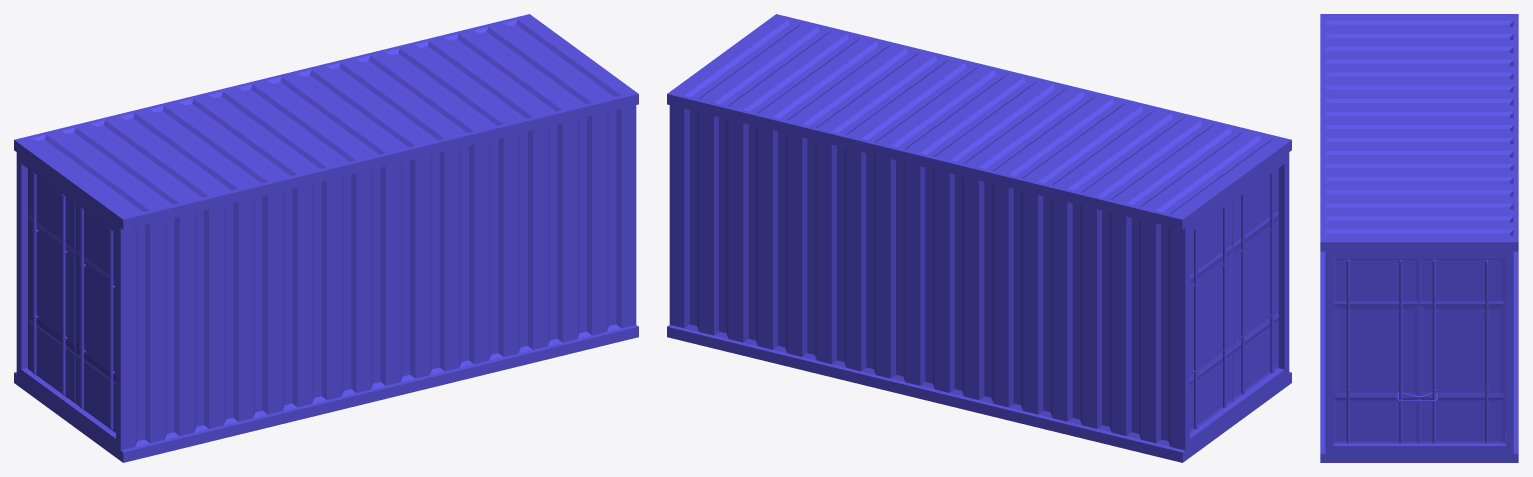
The model's file is container.FBX.
3 renders of one model, left to right at view 1: azimuth 30°, elevation 25°; view 2: azimuth 150°, elevation 25°; view 3: azimuth 270°, elevation 25°, orthographic. The views are drawn at different scales.
Parts seen in each view (by area): view 1: Box01, Box05, Box04, pole05, pole06, pole07, pole08; view 2: Box01, Box04, Box05, pole07, pole08, pole05, pole06; view 3: Box01, Box02, Box03, pole, pole04, pole03, pole2.
Boxes of the visible parts, x1=… form: Box01: x1=14, y1=14, x2=638, y2=462; Box05: x1=28, y1=169, x2=75, y2=403; Box04: x1=75, y1=204, x2=115, y2=432; pole05: x1=109, y1=229, x2=113, y2=429; pole06: x1=80, y1=207, x2=83, y2=408; pole07: x1=62, y1=194, x2=65, y2=395; pole08: x1=33, y1=172, x2=36, y2=374; Box01: x1=667, y1=14, x2=1291, y2=462; Box04: x1=1232, y1=168, x2=1278, y2=401; Box05: x1=1190, y1=202, x2=1233, y2=432; pole07: x1=1223, y1=206, x2=1226, y2=407; pole08: x1=1194, y1=228, x2=1197, y2=429; pole05: x1=1270, y1=172, x2=1273, y2=373; pole06: x1=1241, y1=193, x2=1244, y2=394; Box01: x1=1320, y1=14, x2=1518, y2=462; Box02: x1=1419, y1=259, x2=1505, y2=443; Box03: x1=1333, y1=259, x2=1419, y2=443; pole: x1=1485, y1=260, x2=1488, y2=442; pole04: x1=1346, y1=260, x2=1349, y2=443; pole03: x1=1399, y1=260, x2=1402, y2=442; pole2: x1=1432, y1=260, x2=1435, y2=443.
Bounding box in the file's own units: 45.43 × 20.32 × 16.54.
